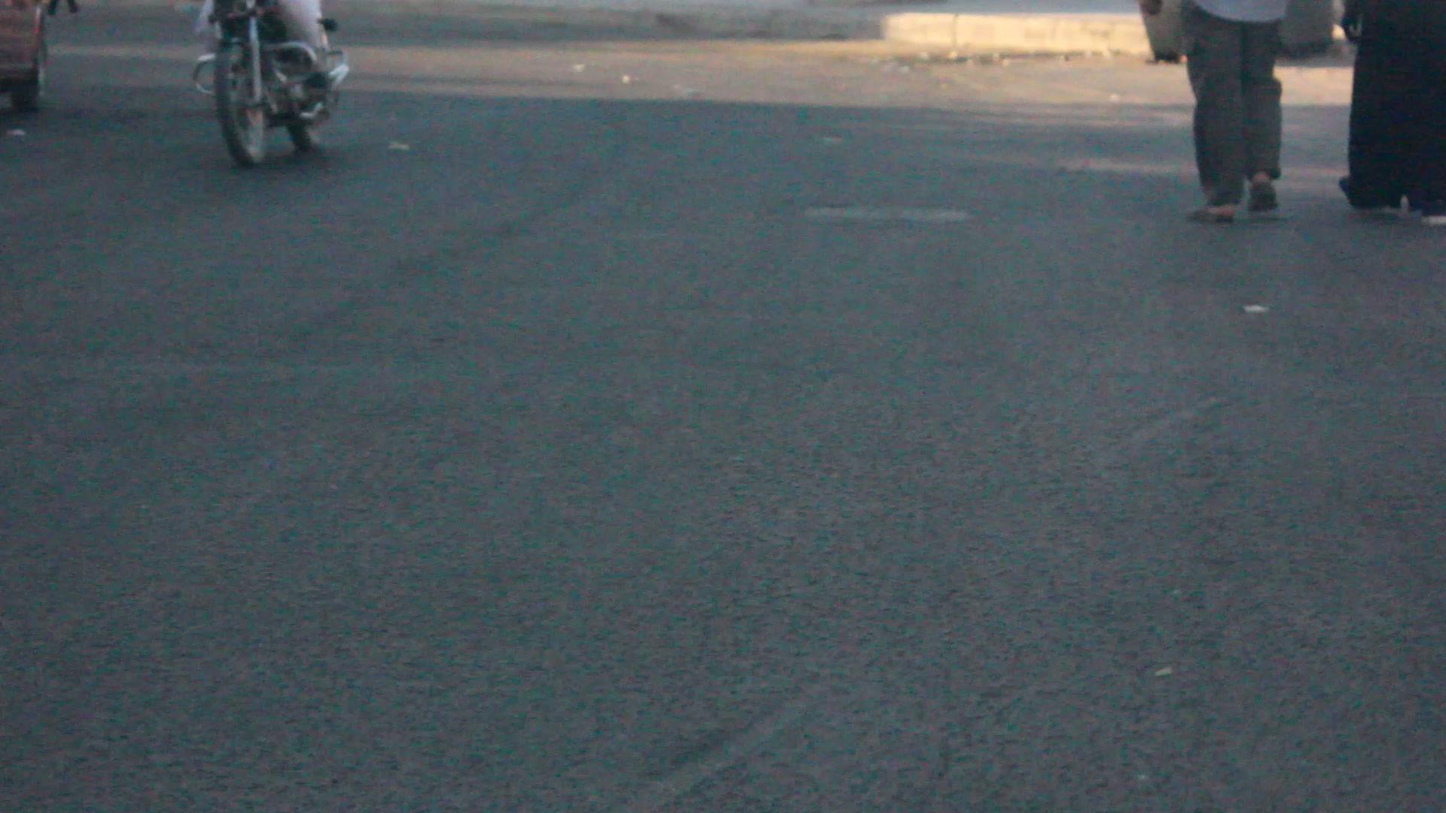Bump: (11, 352, 1446, 566)
